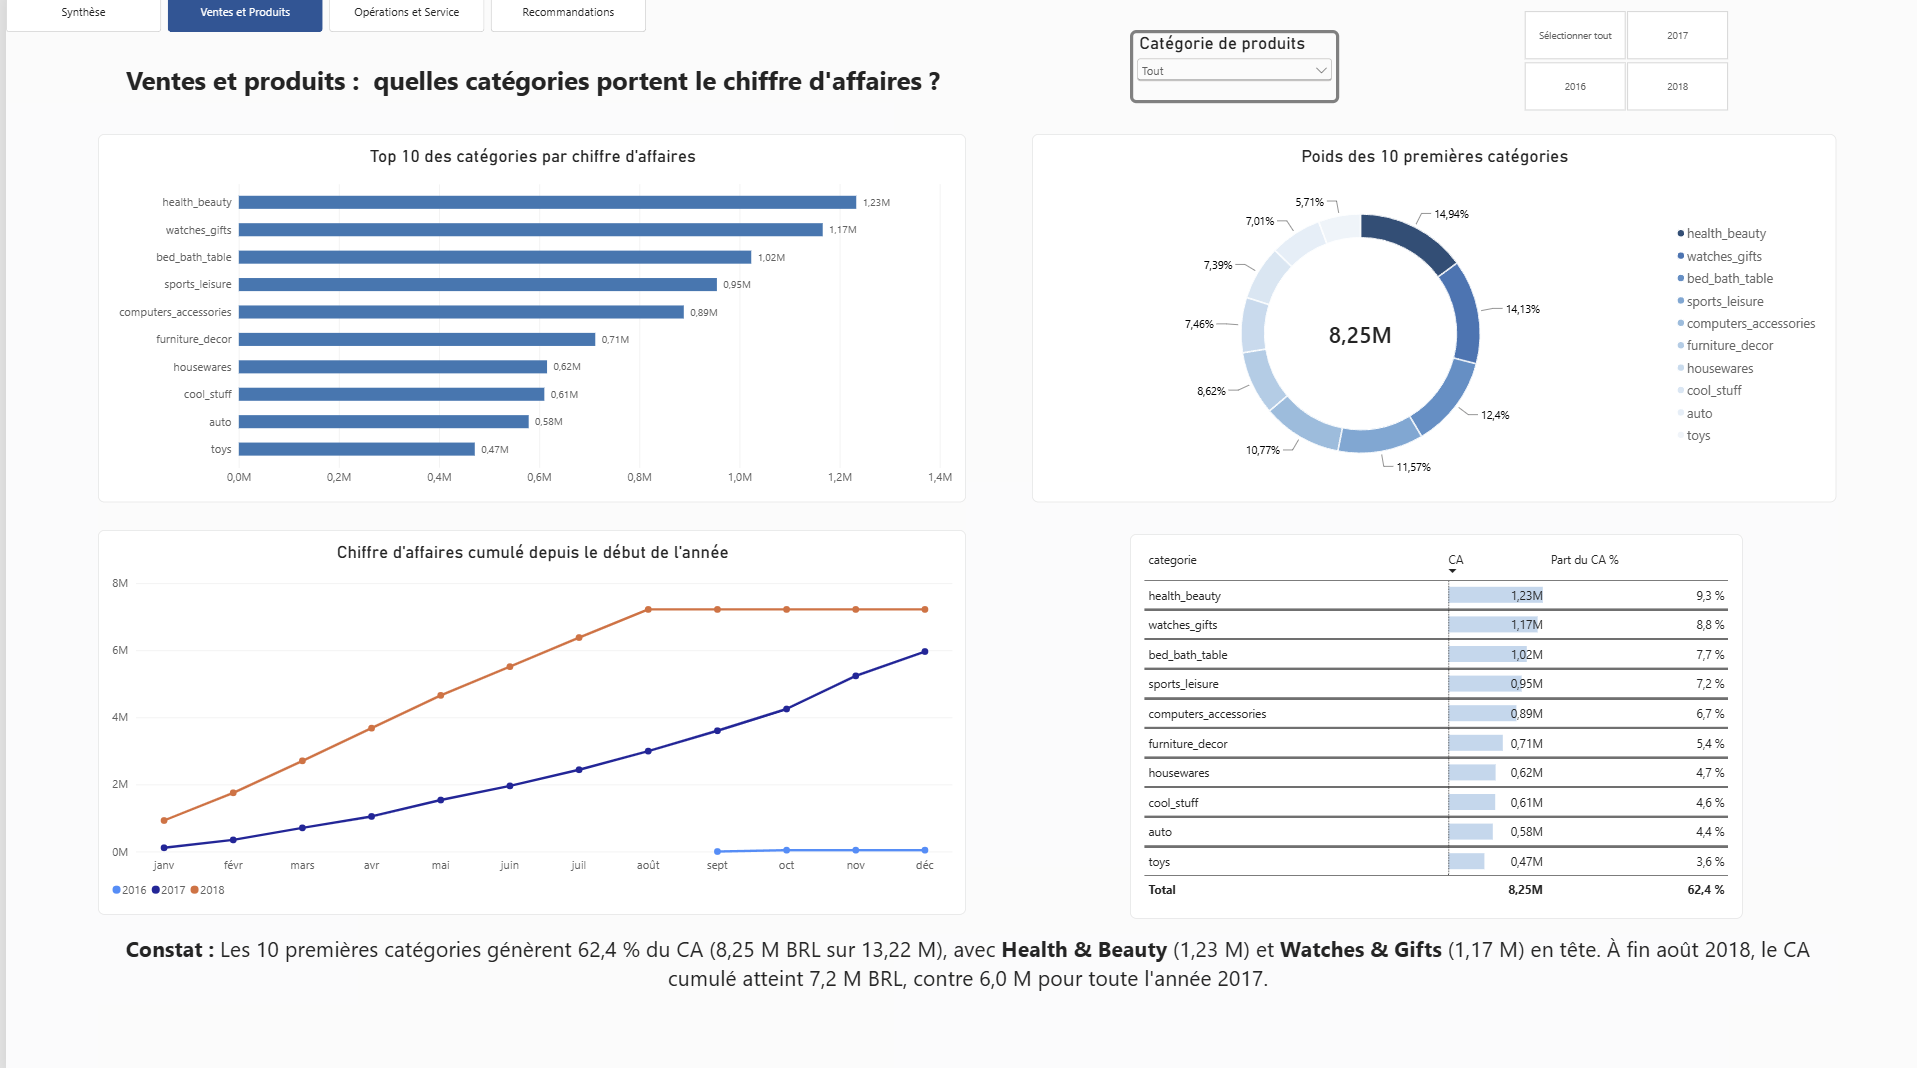

Layout of this report page (visuals, bound fields, positions):
{"tool":"powerbi","page":{"name":"Ventes et Produits","canvas":[2400,1352],"ordinal":1},"visuals":[{"type":"textbox","box":[114,86.6,1087.5,52.4],"z":0},{"type":"slicer","fields":{"Values":["Produits.categorie"]},"box":[1404.4,47.9,261.5,91.7],"z":1000},{"type":"clusteredBarChart","title":"Top 10 des catégories par chiffre d''affaires","fields":{"Category":["Produits.categorie"],"Y":["_Mesures.CA"]},"box":[114,177.8,1085.2,460.5],"z":2000},{"type":"donutChart","title":"Poids des 10 premières catégories","fields":{"Category":["Produits.categorie"],"Y":["_Mesures.CA"]},"box":[1283.6,177.8,1005.5,460.5],"z":3000},{"type":"lineChart","title":"Chiffre d''affaires cumulé depuis le début de l''année","fields":{"Category":["calendrier.Mois"],"Series":["calendrier.Année"],"Y":["_Mesures.CA cumul annuel"]},"box":[114,672.6,1085.2,481.1],"z":4000},{"type":"tableEx","fields":{"Values":["Produits.categorie","_Mesures.CA","_Mesures.Part du CA %"]},"box":[1404.4,677.1,766.1,481.1],"z":5000},{"type":"slicer","fields":{"Values":["calendrier.Année"]},"box":[1876.4,20.5,294.1,130],"z":6000},{"type":"textbox","box":[114,1178.7,2175.1,86.6],"z":7000},{"type":"pageNavigator","box":[0,0,800,50],"z":7001}]}

Visuals, with their boxes in screenshot pixels (x1, y1, x2, y2), scaled from the page's 2400x1352 canvas onto the 1917x1068 screenshot:
textbox: 91 68 960 110
slicer - Produits.categorie: 1122 38 1331 110
"Top 10 des catégories par chiffre d''affaires" clusteredBarChart: 91 140 958 504
"Poids des 10 premières catégories" donutChart: 1025 140 1828 504
"Chiffre d''affaires cumulé depuis le début de l''année" lineChart: 91 531 958 911
tableEx - Produits.categorie x _Mesures.CA: 1122 535 1734 915
slicer - calendrier.Année: 1499 16 1734 119
textbox: 91 931 1828 1000
pageNavigator: 0 0 639 39
